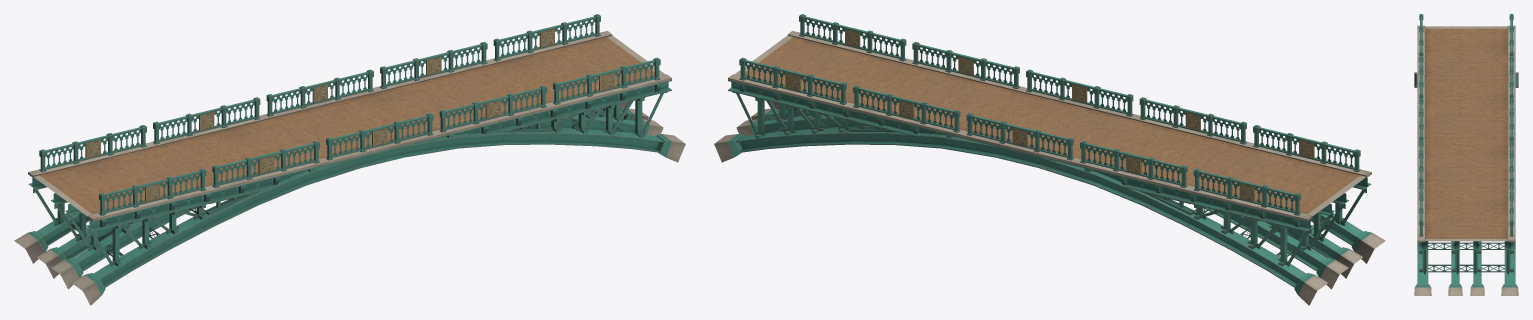
Rendered from t1_b_steel_bridge_b.glb.
The picture shows the model from 3 angles, left to right: view 1: azimuth 30°, elevation 25°; view 2: azimuth 150°, elevation 25°; view 3: azimuth 270°, elevation 25°; orthographic projection. The views are drawn at different scales.
Parts seen in each view (by area): view 1: um_t1_b_steel_bridge_b_model_t1_b_steel_bridge_b_modelShape; view 2: um_t1_b_steel_bridge_b_model_t1_b_steel_bridge_b_modelShape; view 3: um_t1_b_steel_bridge_b_model_t1_b_steel_bridge_b_modelShape.
Part boxes in pixels (x1,y1,x2,y2): um_t1_b_steel_bridge_b_model_t1_b_steel_bridge_b_modelShape: [14, 14, 685, 305]; um_t1_b_steel_bridge_b_model_t1_b_steel_bridge_b_modelShape: [714, 14, 1385, 305]; um_t1_b_steel_bridge_b_model_t1_b_steel_bridge_b_modelShape: [1414, 14, 1518, 295].
Bounding box in the file's own units: 43.61 × 7.24 × 8.6.
2 materials, 2 textured.
